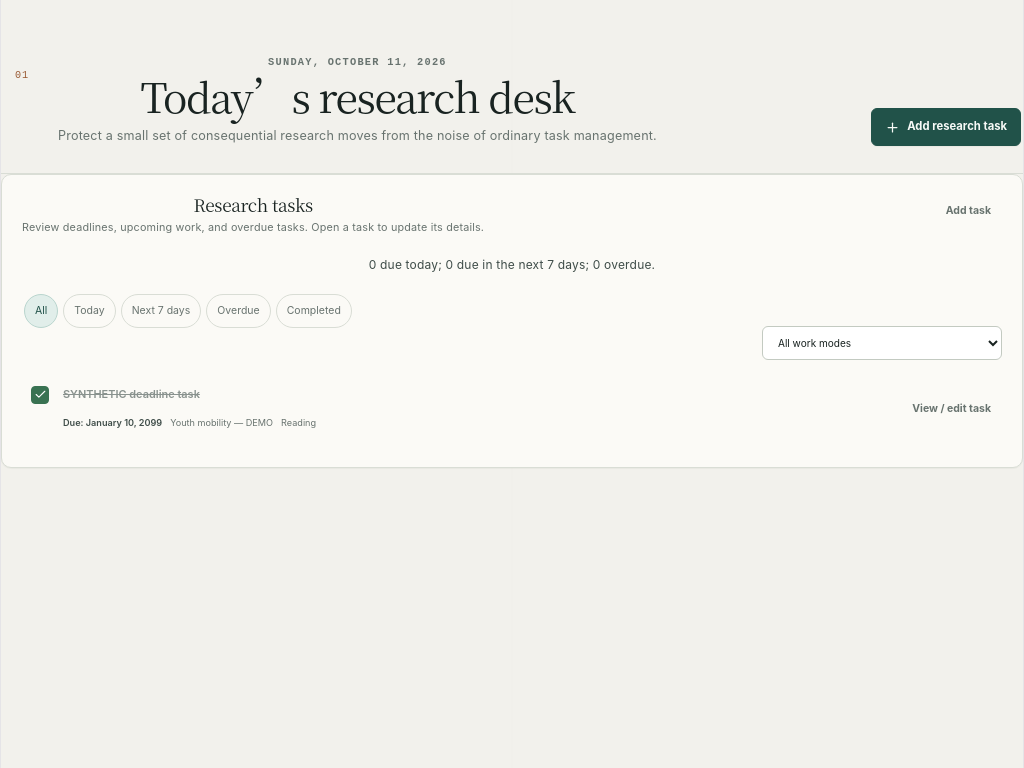
Test: TodayPage theory work mode › shows saved deadlines and lets the researcher revisit notes and change the deadline
Expected: the text "Due: January 10, 2099" is shown, [63,416,162,428]
Click the button "View / edit task" at (952, 409), box [901,393,1002,425]
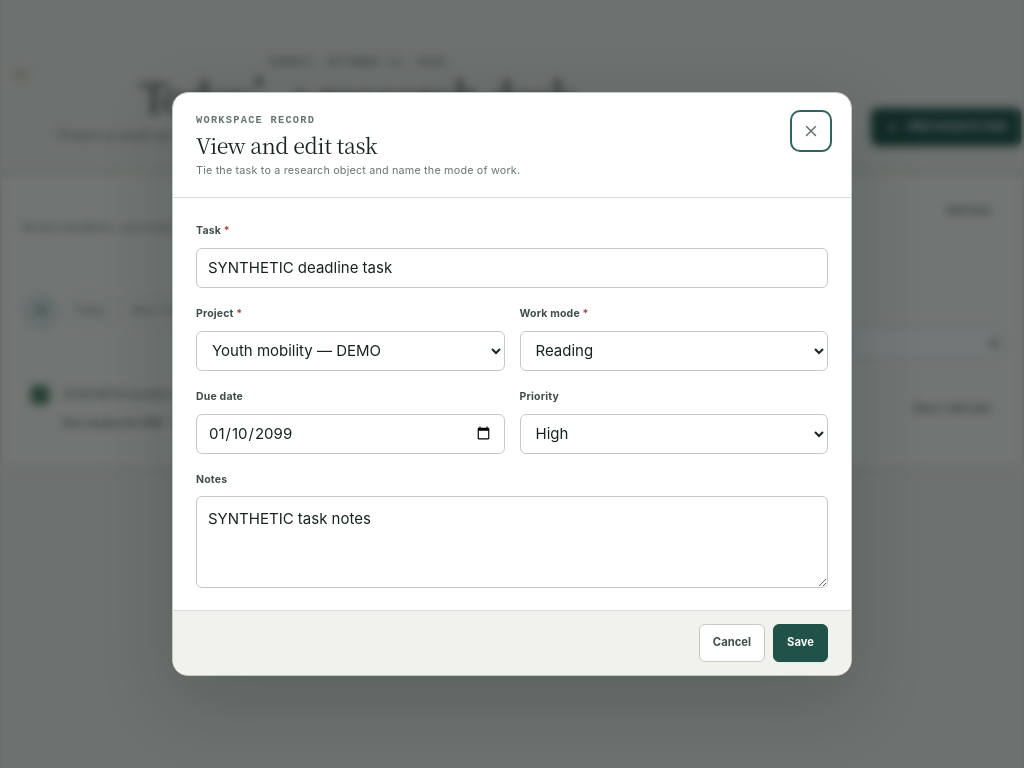
Now the date field labelled "Due date" holds "2099-01-10"
Now the text box labelled "Notes" holds "SYNTHETIC task notes", box [196,496,828,588]
Clear the date field labelled "Due date" at (350, 434), box [196,414,504,454]
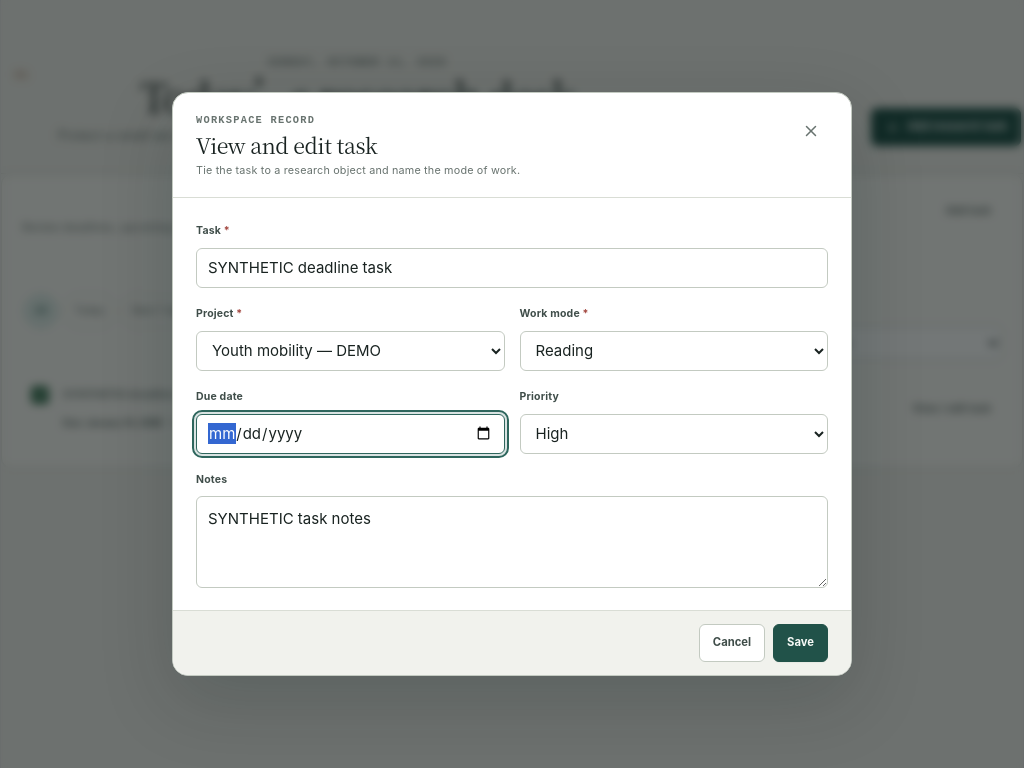
Click the button "Save" at (800, 643), box [773,624,828,662]
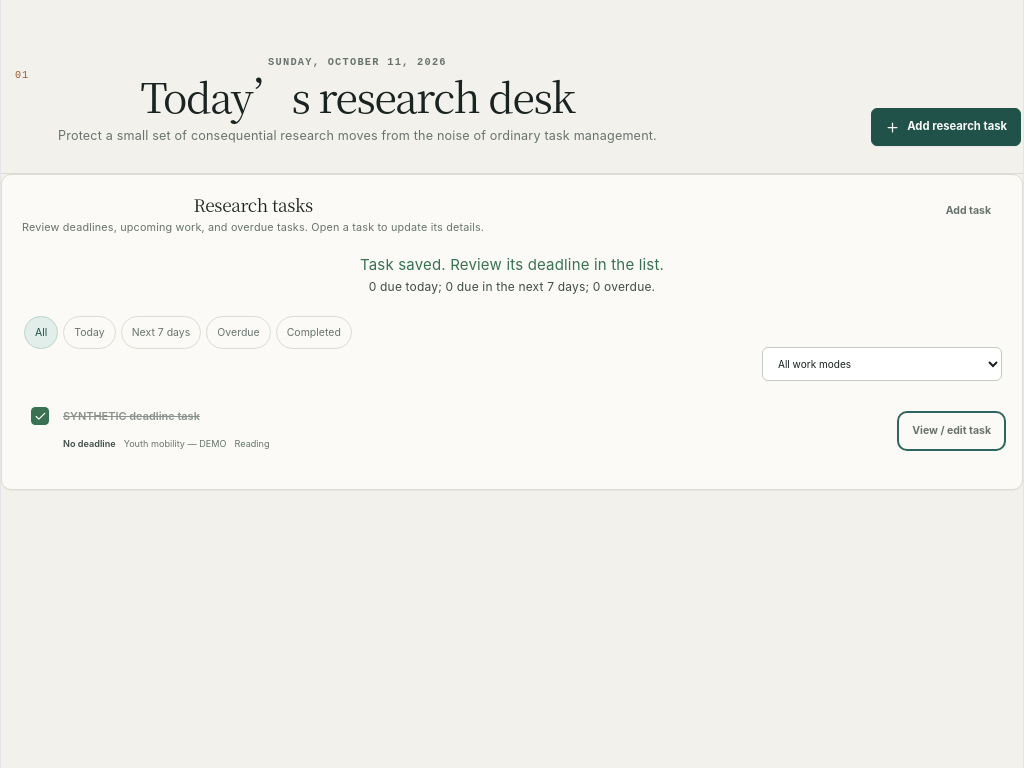
Now the dialog is gone
Now the text "No deadline" is shown, box [63,438,116,449]
